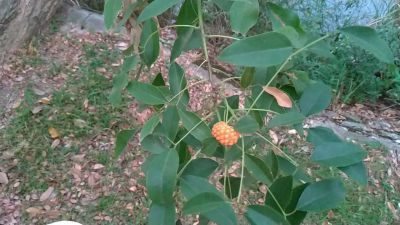eggs: (208, 119, 240, 149)
